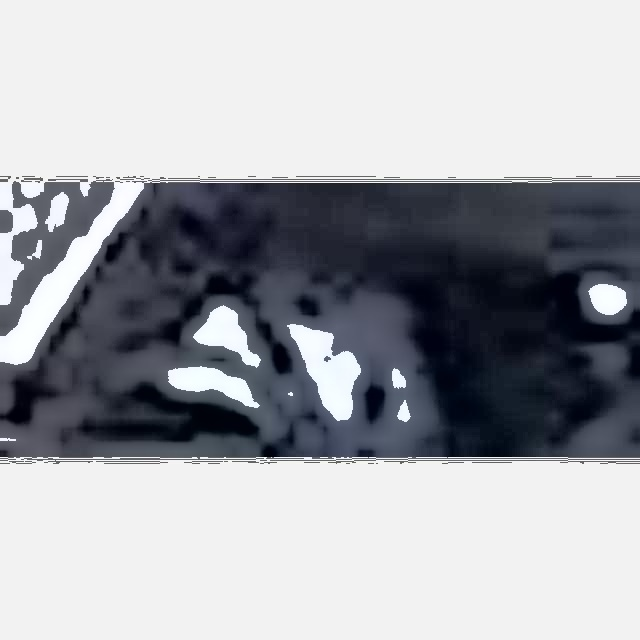pakai: (160, 240, 423, 423)
